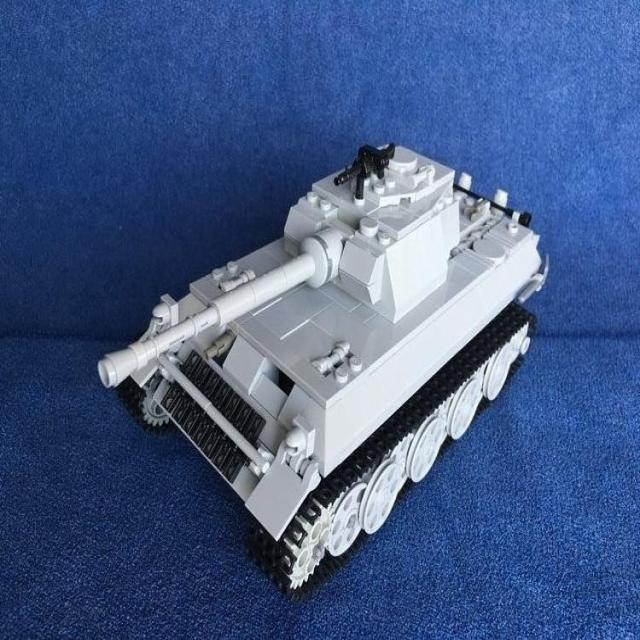Tanks: (126, 132, 540, 574)
